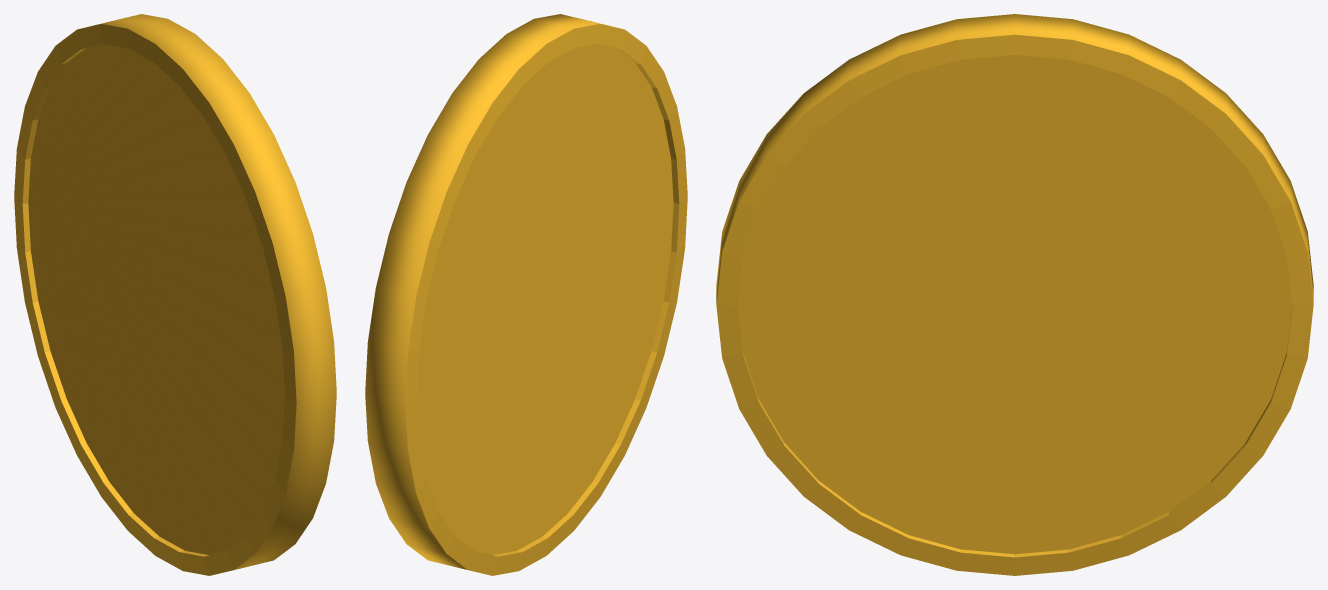
File: coin.obj
3 views of the same model, side by side, from view 1: azimuth 30°, elevation 25°; view 2: azimuth 150°, elevation 25°; view 3: azimuth 270°, elevation 25° (orthographic). The views are drawn at different scales.
Parts seen in each view (by area): view 1: Cylinder; view 2: Cylinder; view 3: Cylinder.
Part boxes in pixels (x1,y1,x2,y2): Cylinder: (14, 14, 336, 575); Cylinder: (365, 14, 687, 575); Cylinder: (716, 14, 1313, 575).
Size of the model in its own units: 0.177 by 2 by 2.
